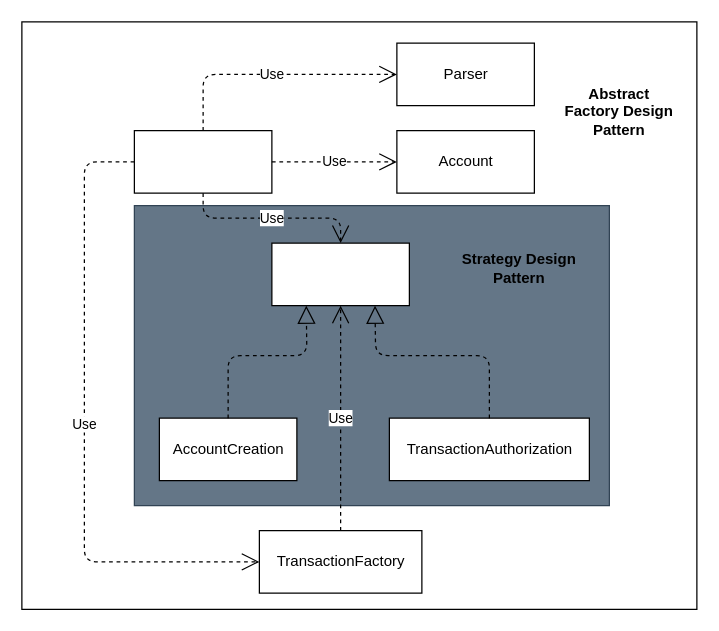
Some shapes in this 719 by 631 pixel diagram are drawn without their labels. Here are the shapes that lost their labels. From the top down, the box of each, then its label:
(133, 129, 272, 193): Authorizer
(271, 242, 409, 306): «interface» Transaction
